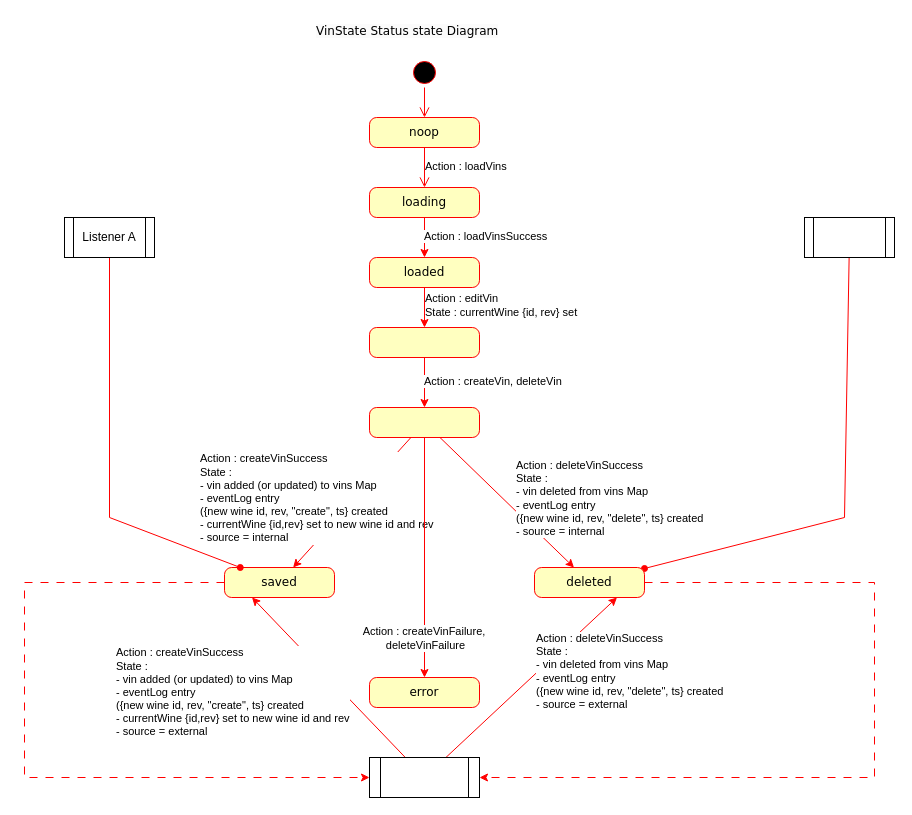
This 912x815 diagram has some shape labels left out. Each missing label, with the box of its shape:
editing: (368, 326, 480, 358)
Listener B: (804, 216, 894, 258)
pending: (368, 406, 480, 438)
Pouch DB Changes: (368, 756, 480, 798)
